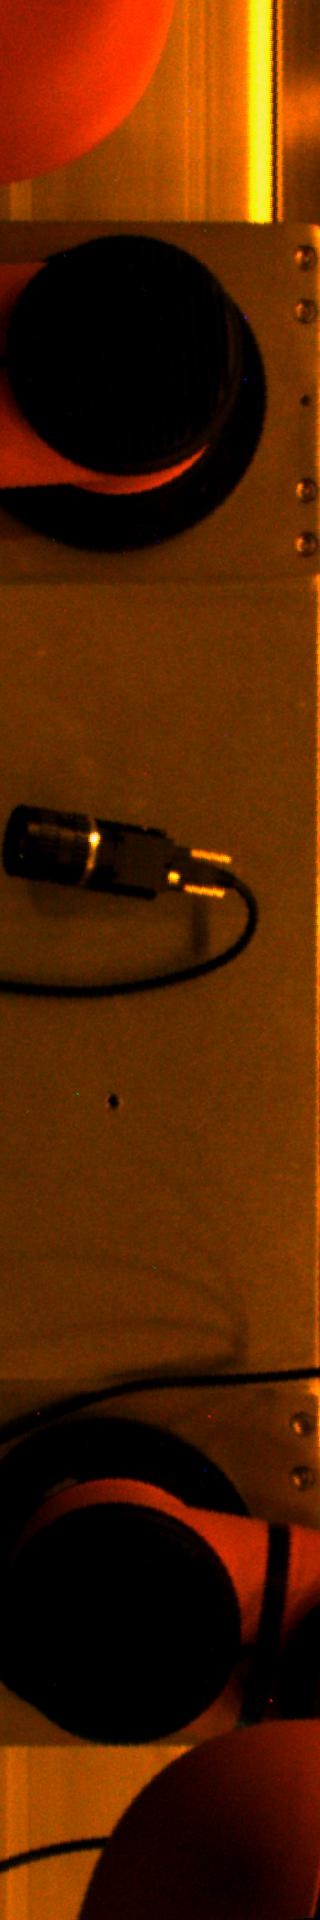keyPoint_2: (97, 1086, 128, 1116)
